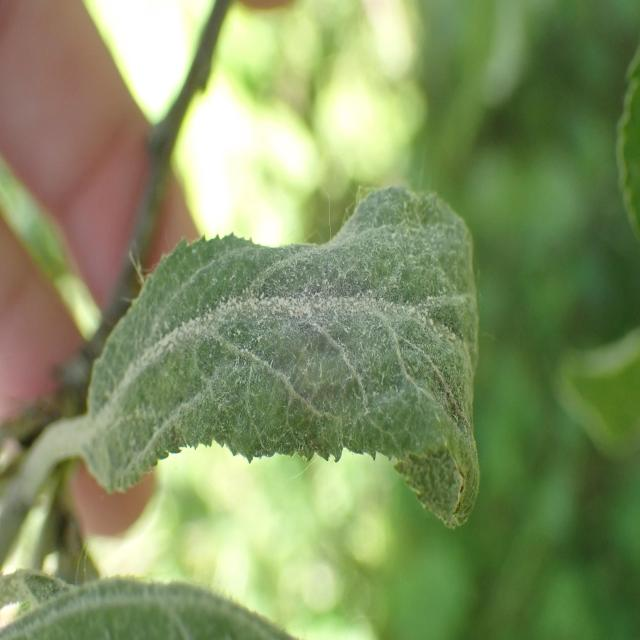Powdery_mildew: (76, 187, 487, 527), (1, 562, 302, 640)
